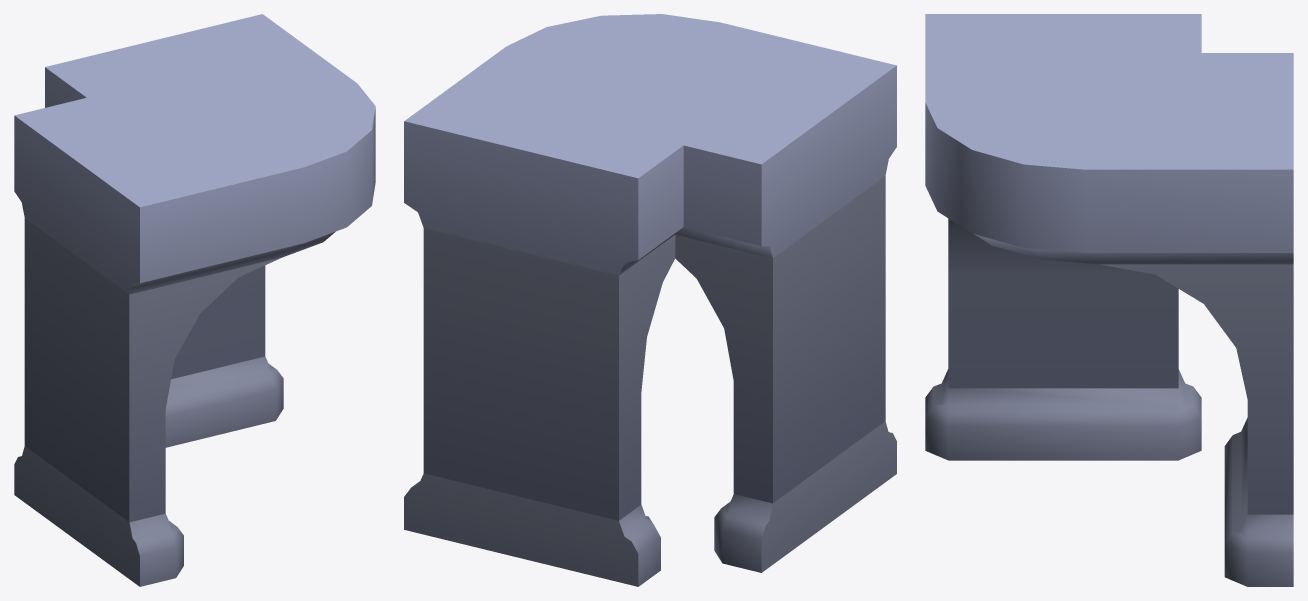
File: wall-corner.glb
The picture shows the model from 3 angles, left to right: view 1: azimuth 30°, elevation 25°; view 2: azimuth 150°, elevation 25°; view 3: azimuth 270°, elevation 25°; orthographic projection. The views are drawn at different scales.
Parts seen in each view (by area): view 1: wall-corner; view 2: wall-corner; view 3: wall-corner.
Boxes of the visible parts, x1,y1,x2,y2 form: wall-corner: (14, 14, 375, 586); wall-corner: (404, 14, 896, 586); wall-corner: (925, 14, 1293, 586).
Bounding box in the file's own units: 0.8 × 1 × 0.8.
1 material, 1 textured.
